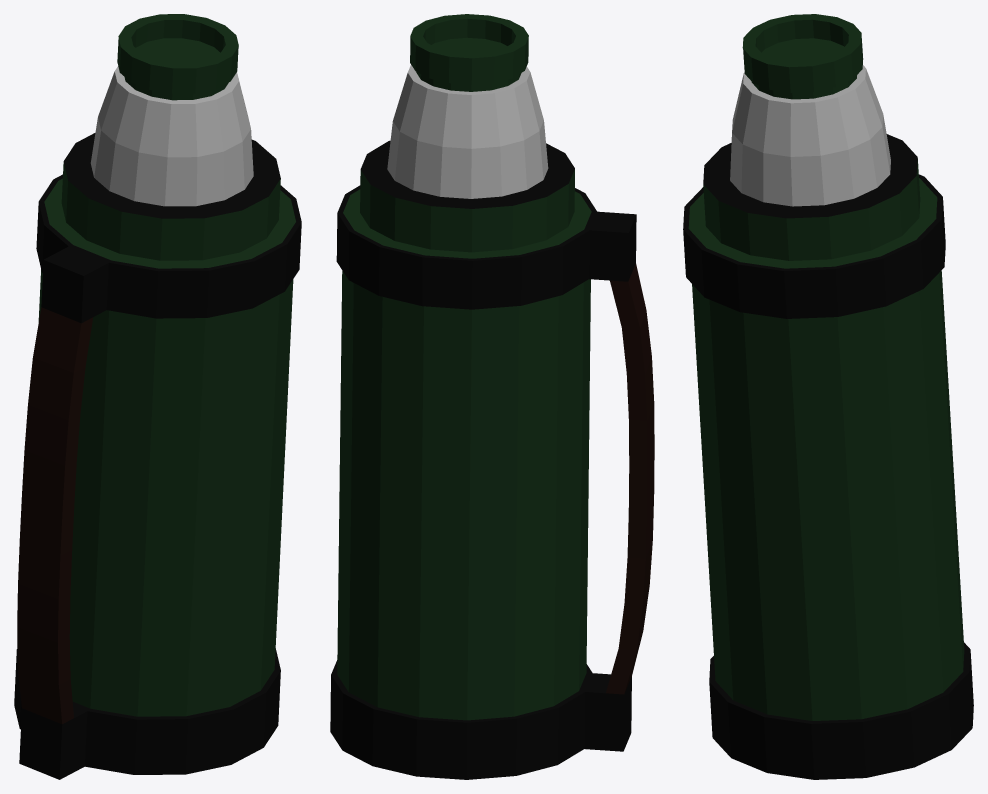
File: termoEscalaV2.obj
3 views of the same model, side by side, from view 1: azimuth 30°, elevation 25°; view 2: azimuth 150°, elevation 25°; view 3: azimuth 270°, elevation 25° (orthographic).
Visible parts, largest first — view 1: Cilindro; view 2: Cilindro; view 3: Cilindro.
Boxes of the visible parts, bbox=[...] form: Cilindro: bbox=[14, 14, 301, 779]; Cilindro: bbox=[330, 14, 654, 779]; Cilindro: bbox=[683, 14, 973, 779].
Size of the model in its own units: 0.1131 by 0.2693 by 0.1019.
